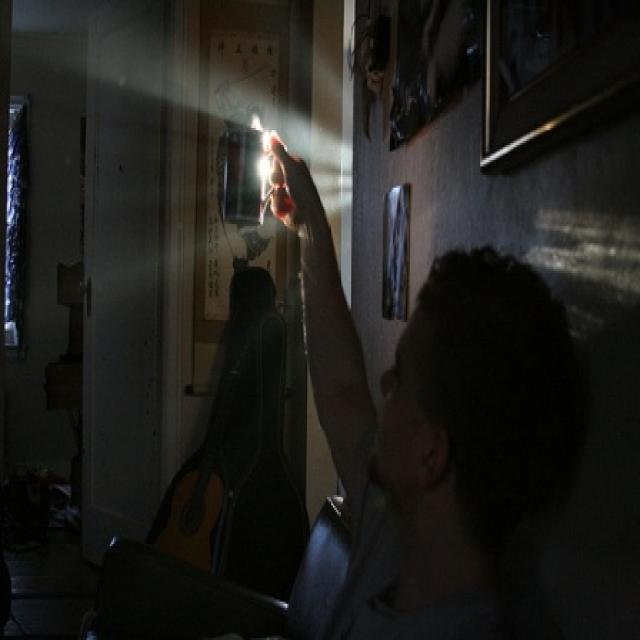Cup: (215, 103, 283, 257)
People: (287, 223, 602, 640)
chair: (65, 521, 305, 640)
